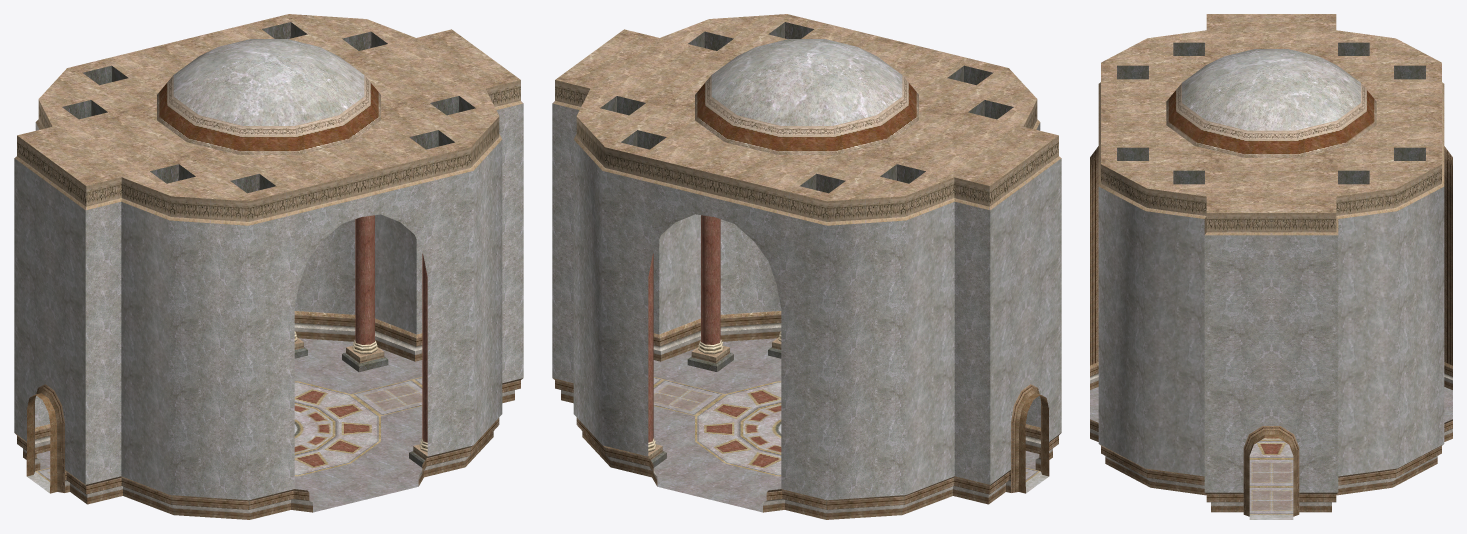
Rendered from thm_nboo_thed_theed_palace_r7_mesh_r7.fbx.
The picture shows the model from 3 angles, left to right: view 1: azimuth 30°, elevation 25°; view 2: azimuth 150°, elevation 25°; view 3: azimuth 270°, elevation 25°; orthographic projection. The views are drawn at different scales.
Visible parts, largest first — view 1: mesh_node; view 2: mesh_node; view 3: mesh_node.
Part boxes in pixels (box(x1,y1,x2,y2)): mesh_node: box(14, 14, 523, 519); mesh_node: box(552, 14, 1061, 519); mesh_node: box(1090, 14, 1452, 519).
Bounding box in the file's own units: 36.06 × 28.06 × 26.22.
